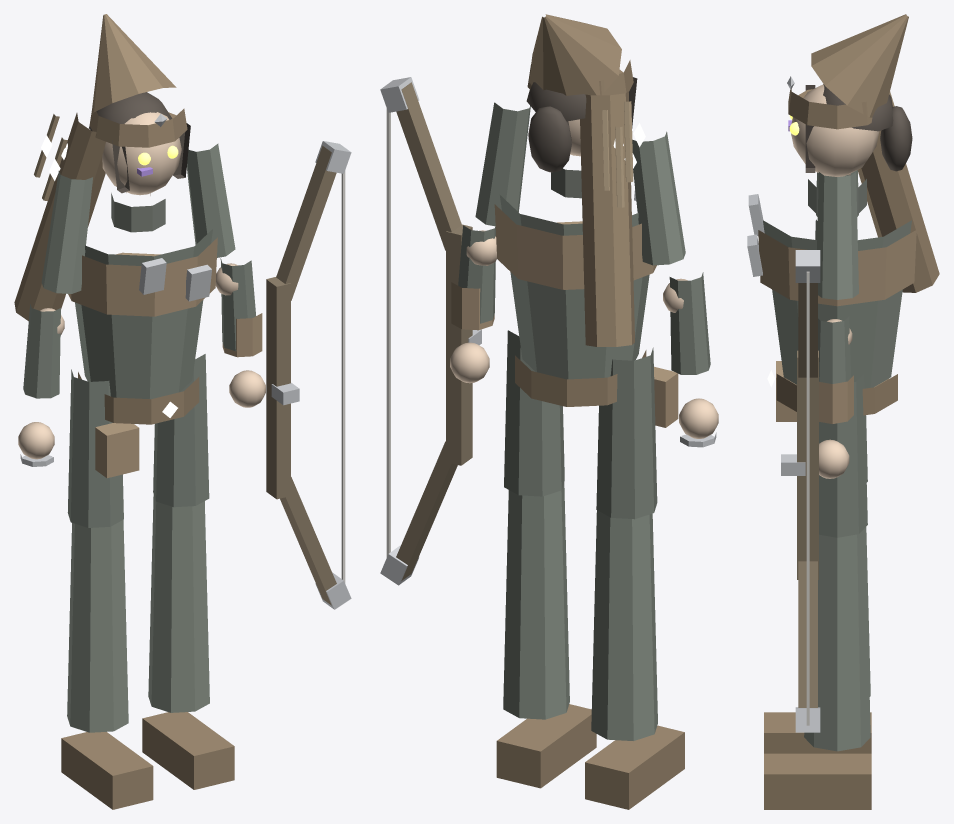
The model's file is nila.glb.
3 renders of one model, left to right at view 1: azimuth 30°, elevation 25°; view 2: azimuth 150°, elevation 25°; view 3: azimuth 270°, elevation 25°, orthographic. The views are drawn at different scales.
Visible parts, largest first — view 1: nila_body, nila_weapon; view 2: nila_body, nila_weapon; view 3: nila_body, nila_weapon.
Part boxes in pixels (x1=…): nila_body: x1=14, y1=14, x2=265, y2=809; nila_weapon: x1=266, y1=141, x2=351, y2=609; nila_body: x1=450, y1=14, x2=718, y2=809; nila_weapon: x1=380, y1=77, x2=481, y2=585; nila_body: x1=747, y1=14, x2=939, y2=809; nila_weapon: x1=781, y1=250, x2=820, y2=732.
Bounding box in the file's own units: 0.7742 × 1.72 × 0.3924.
